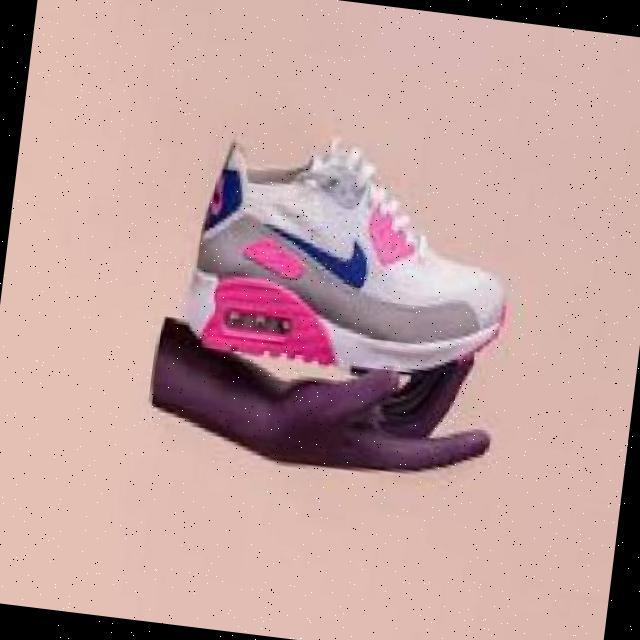Nike: (262, 209, 378, 293)
